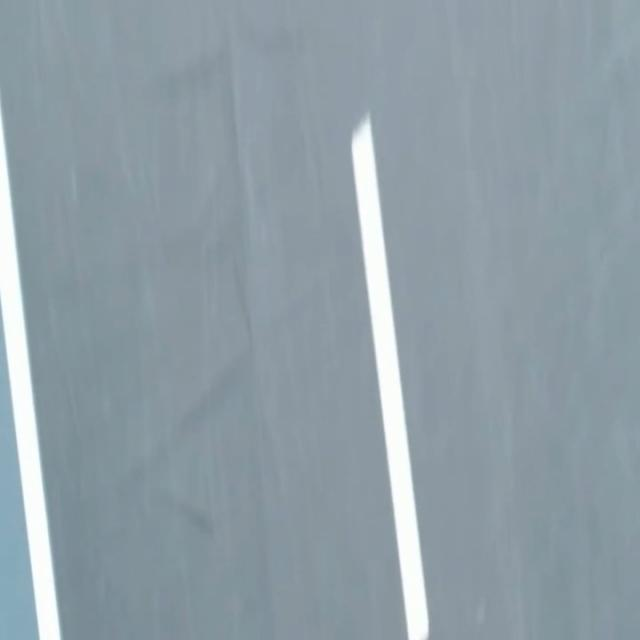center: (352, 115, 428, 639)
